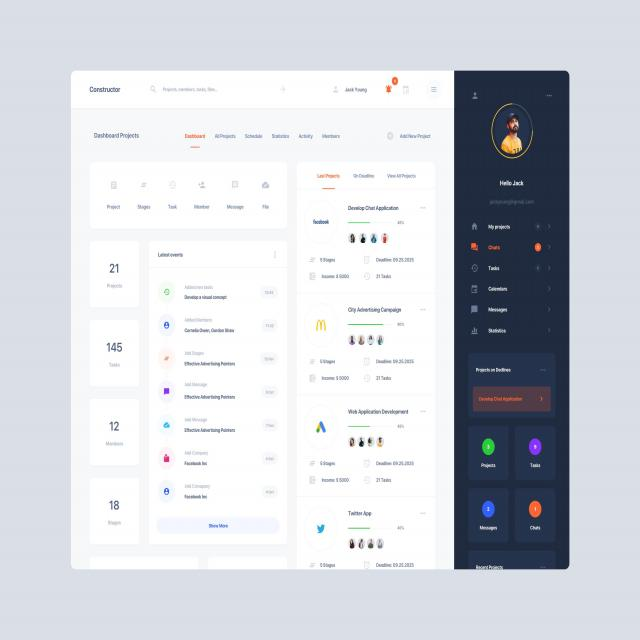button: (385, 129, 437, 144), (470, 90, 480, 101)
input: (146, 81, 236, 98)
